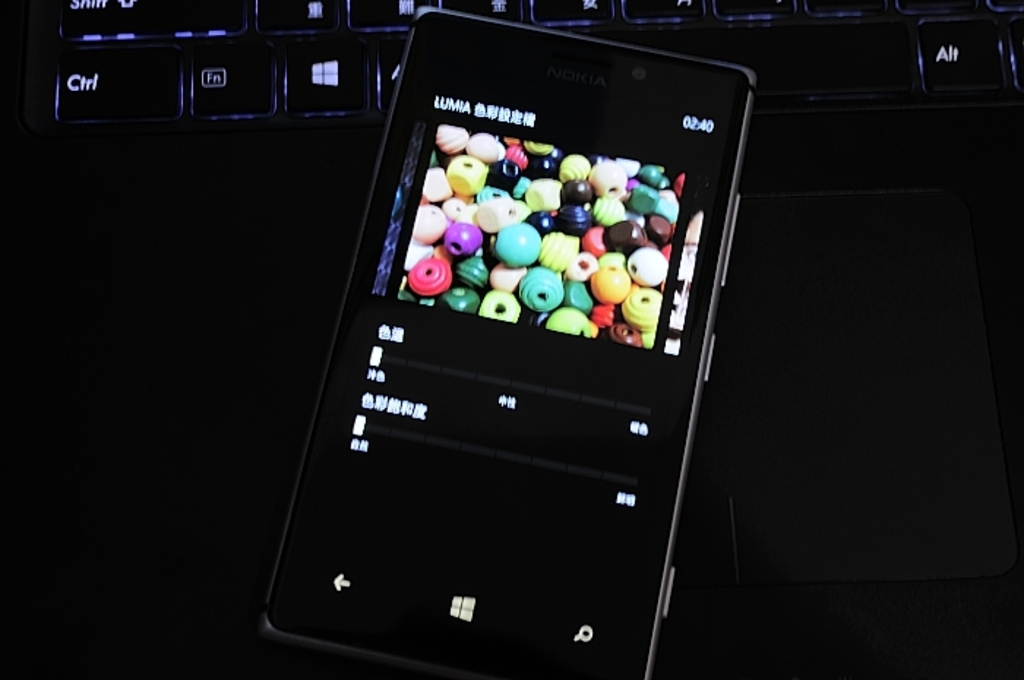Mobile-phone: (279, 18, 761, 680)
